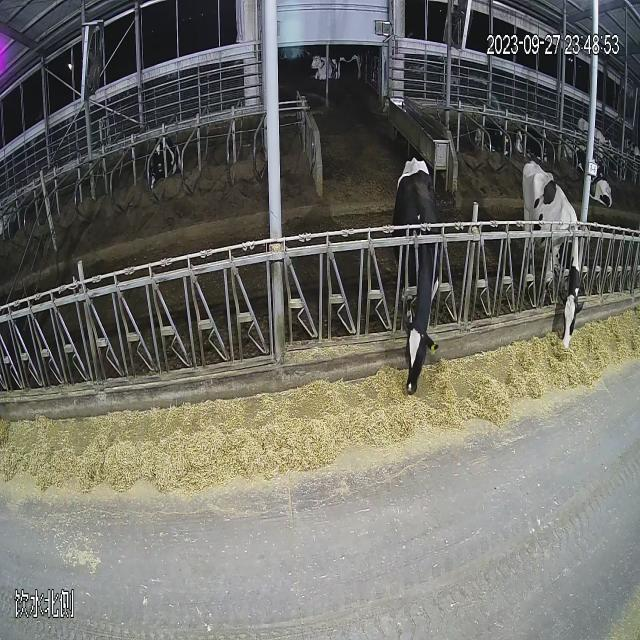feeding: (380, 134, 446, 452), (506, 147, 590, 379), (304, 44, 339, 92)
lying down: (140, 104, 185, 195), (474, 104, 512, 170), (582, 154, 614, 225), (514, 112, 552, 164)
standing: (575, 103, 615, 160)
